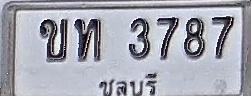3: (128, 16, 150, 60)
7: (156, 16, 178, 60), (212, 14, 234, 58)
8: (183, 16, 205, 58)
A02: (39, 18, 68, 62)
A23: (74, 18, 102, 62)
CBI: (98, 69, 158, 96)
